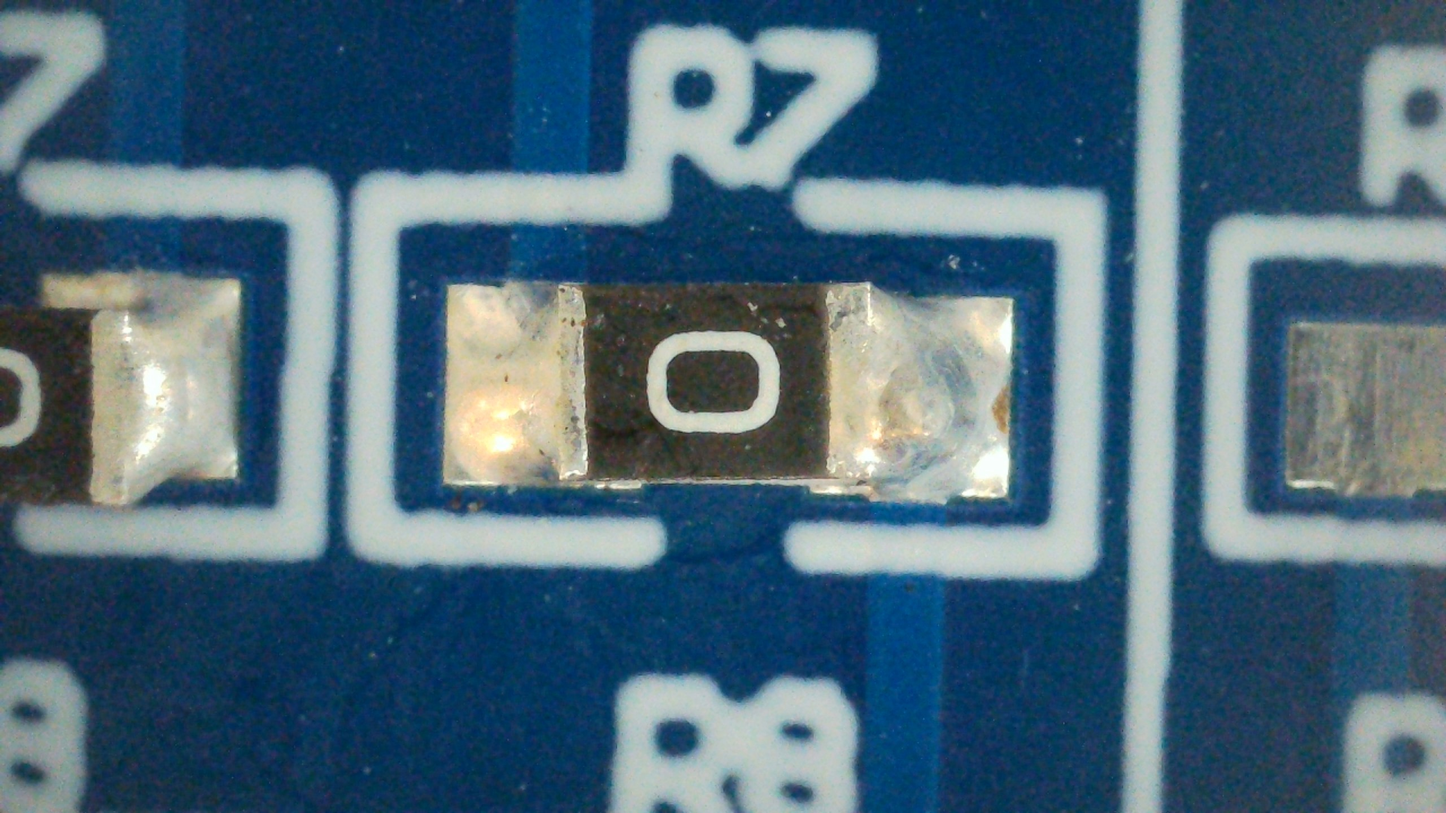OK: (444, 283, 1015, 497)
